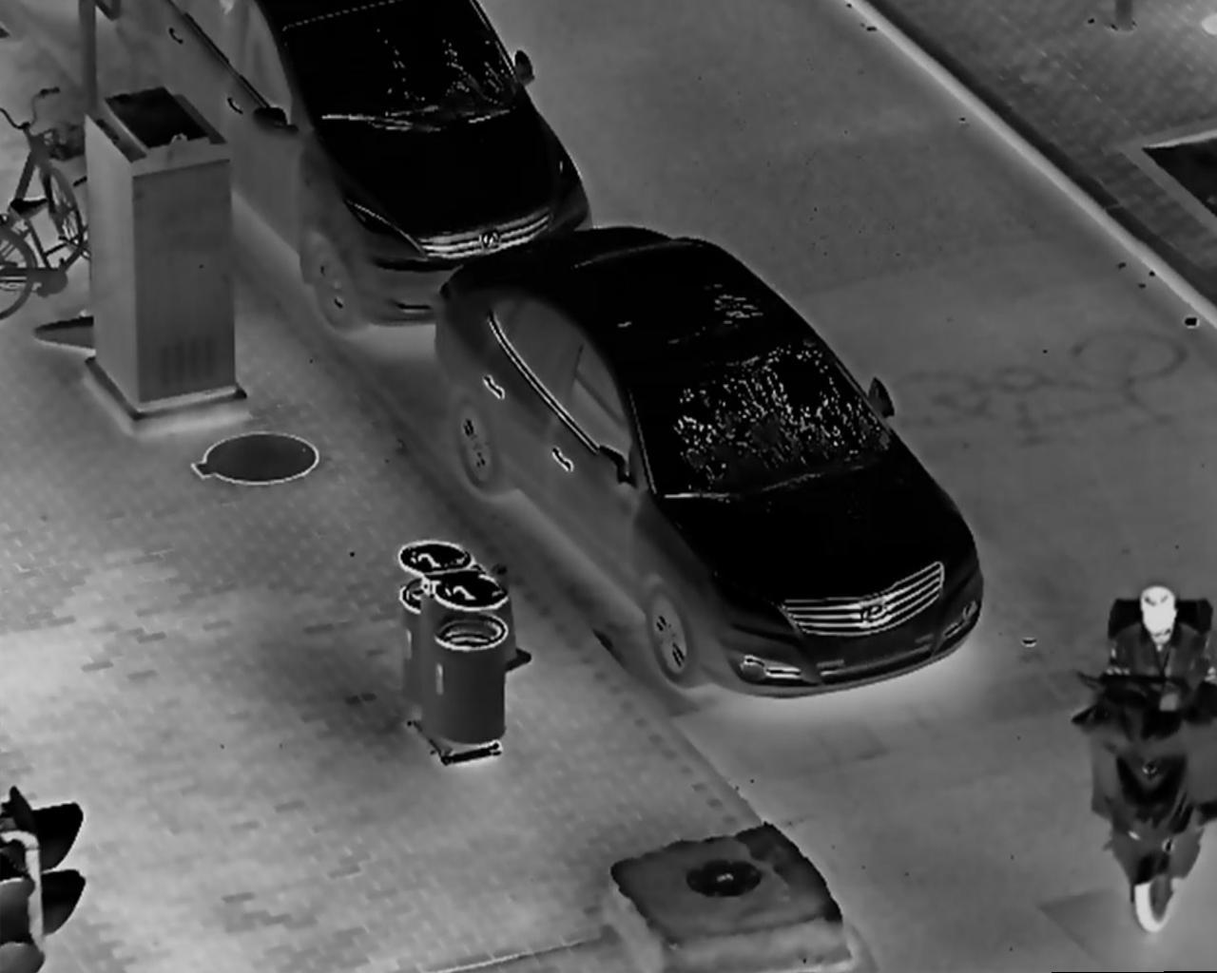person: (1083, 578, 1217, 903)
